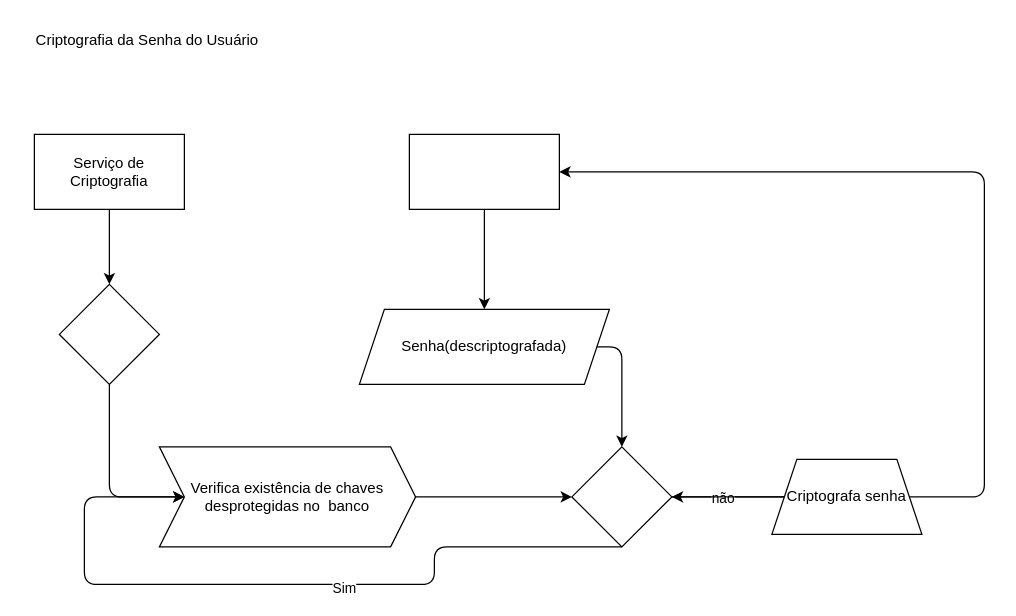
Image size: 1016x616. Some labels were removed from this diagram. Each missing label, with the box of its shape:
Senha está protegida?: (571, 446, 672, 547)
Usuário: (408, 133, 559, 209)
